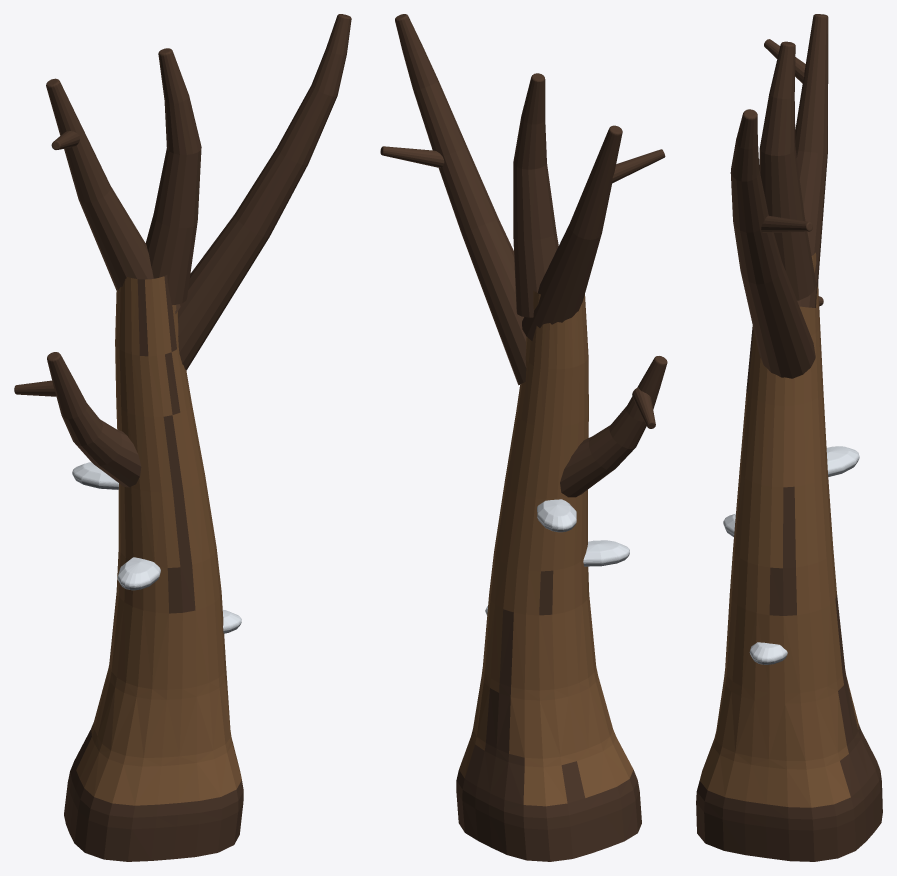
Rendered from DeadTree.obj.
3 renders of one model, left to right at view 1: azimuth 30°, elevation 25°; view 2: azimuth 150°, elevation 25°; view 3: azimuth 270°, elevation 25°, orthographic. The views are drawn at different scales.
Bounding box in the file's own units: 3.29 × 8.12 × 1.72.
